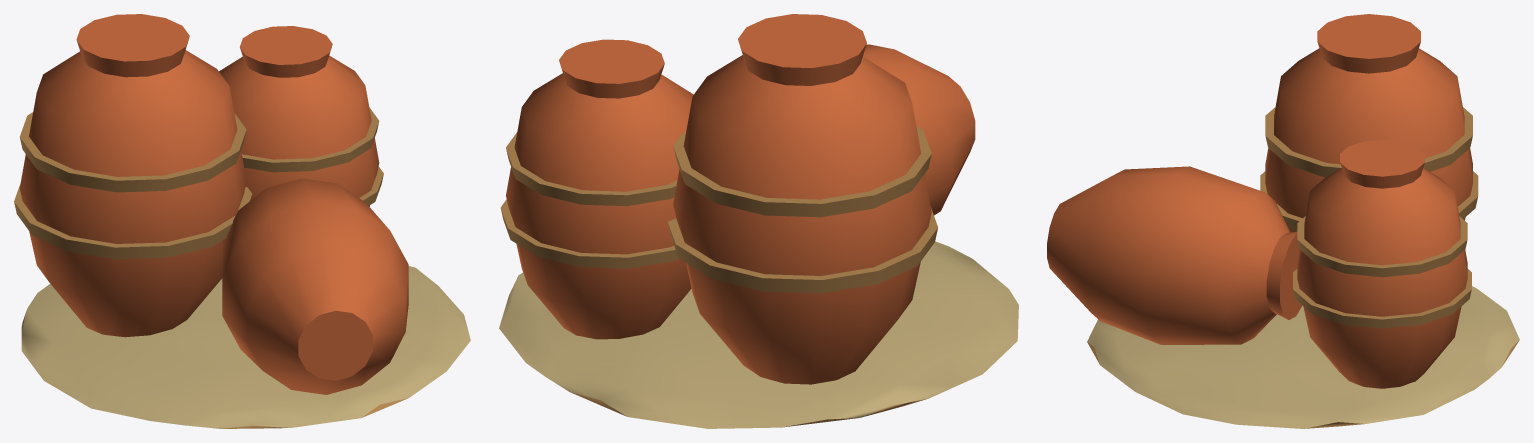
File: Pithoi.fbx
3 renders of one model, left to right at view 1: azimuth 30°, elevation 25°; view 2: azimuth 150°, elevation 25°; view 3: azimuth 270°, elevation 25°, orthographic. The views are drawn at different scales.
Parts seen in each view (by area): view 1: Pithoi; view 2: Pithoi; view 3: Pithoi.
Boxes of the visible parts, x1,y1,x2,y2 form: Pithoi: (14, 14, 470, 428); Pithoi: (499, 14, 1018, 428); Pithoi: (1047, 14, 1519, 428).
Bounding box in the file's own units: 1.6 × 1.12 × 1.78.
1 material, 1 textured.
